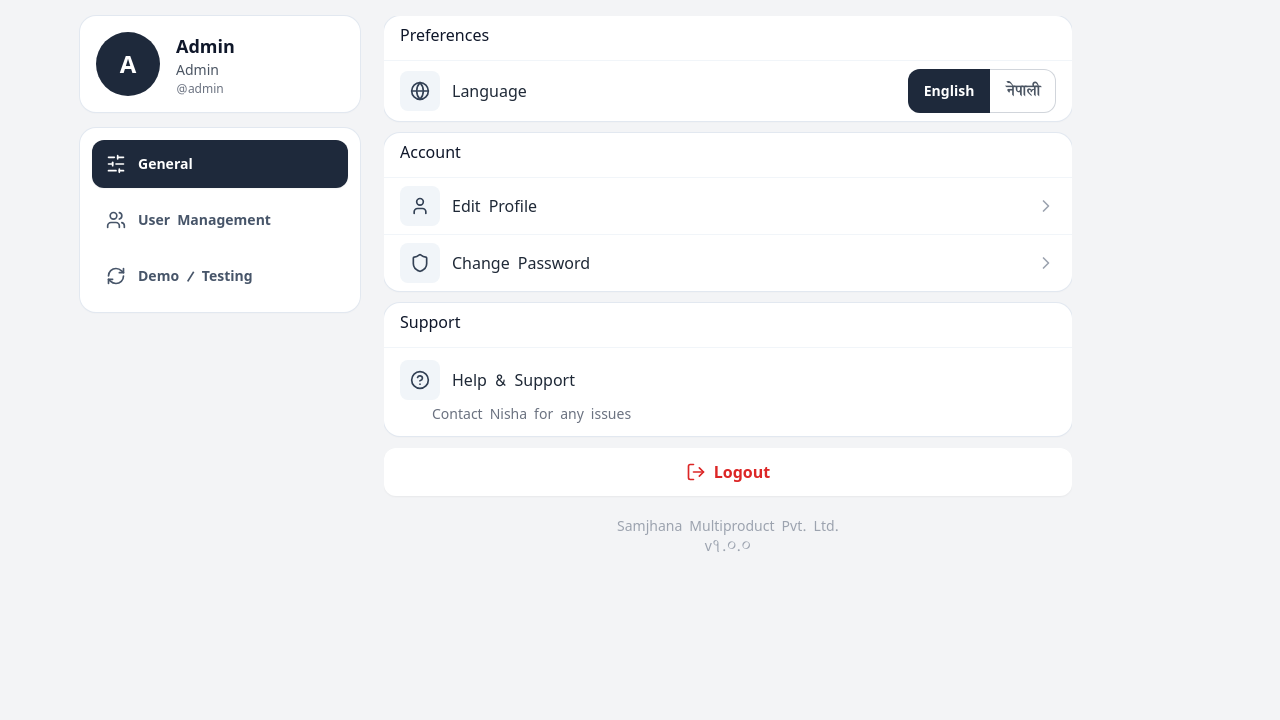
SettingsPage demo reset › resets without logging in as a demo account and keeps the current login
Click the button "Demo / Testing": (220, 276) [92,252,348,300]
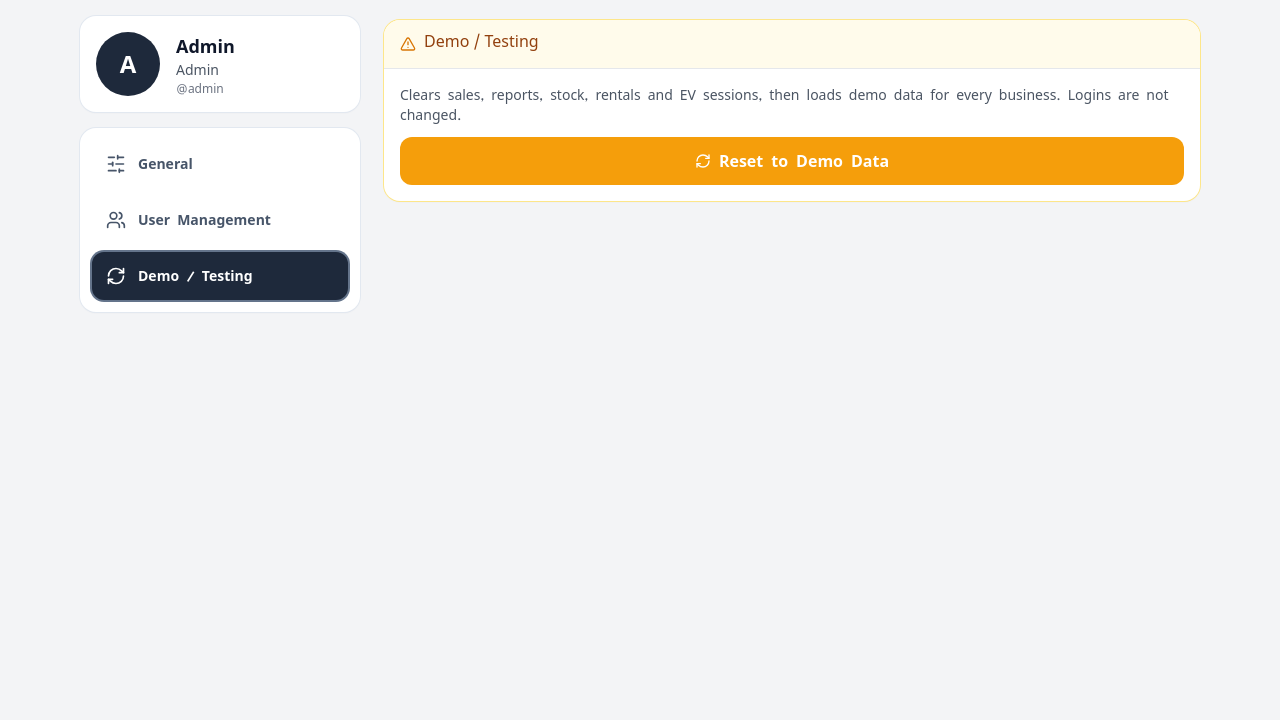
Click the button "Reset to Demo Data": (792, 161) [400,137,1184,185]
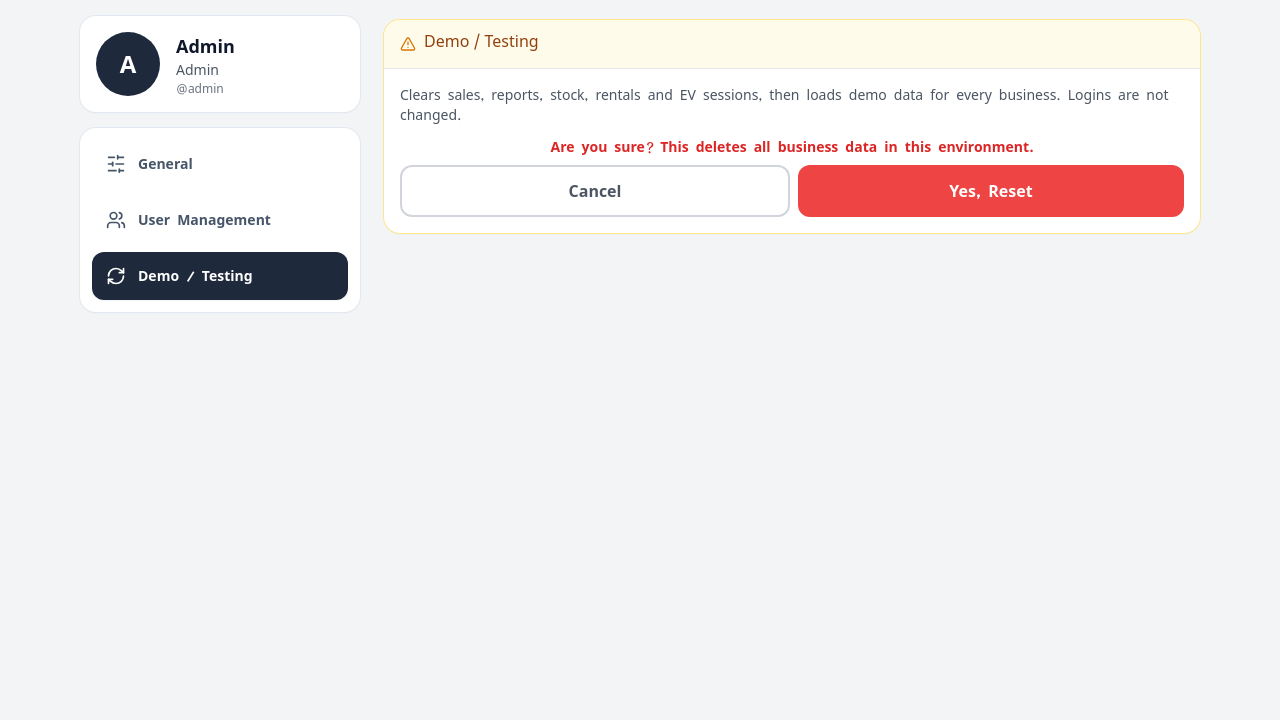
Click the button "Yes, Reset": (991, 191) [798,165,1184,217]
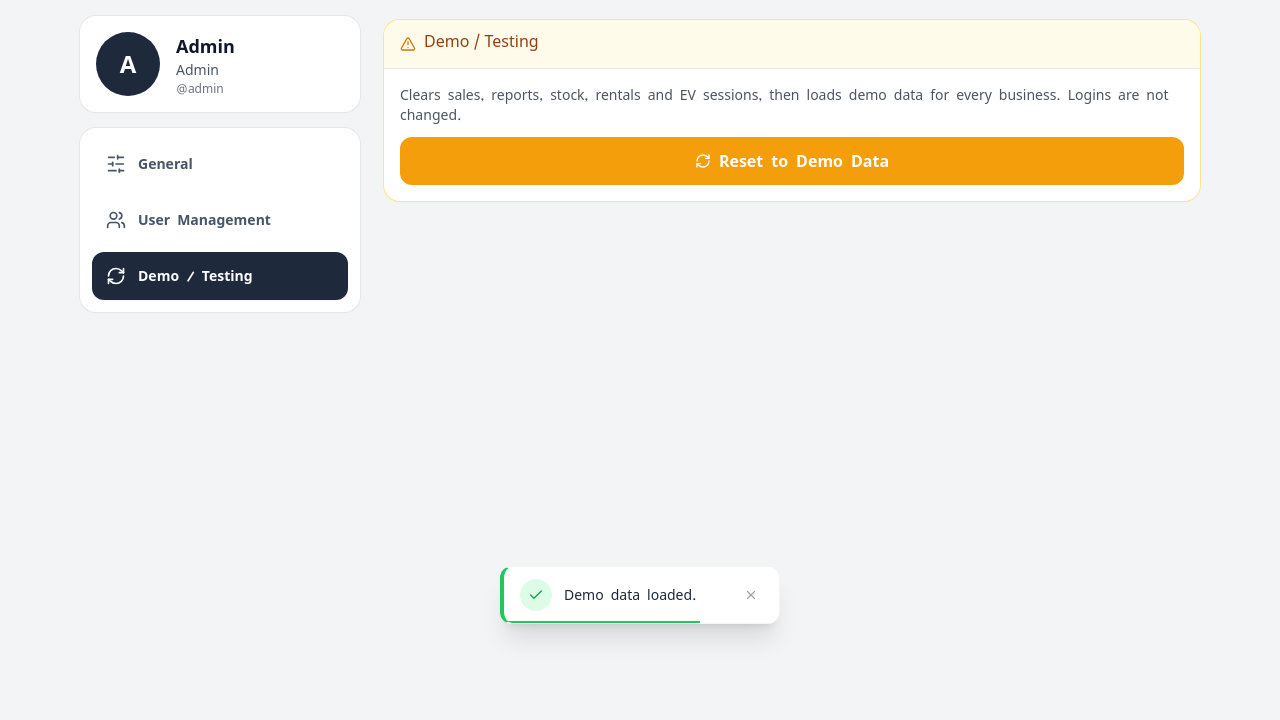
expect the text "Demo data loaded." is shown: met, box [564,583,696,606]
